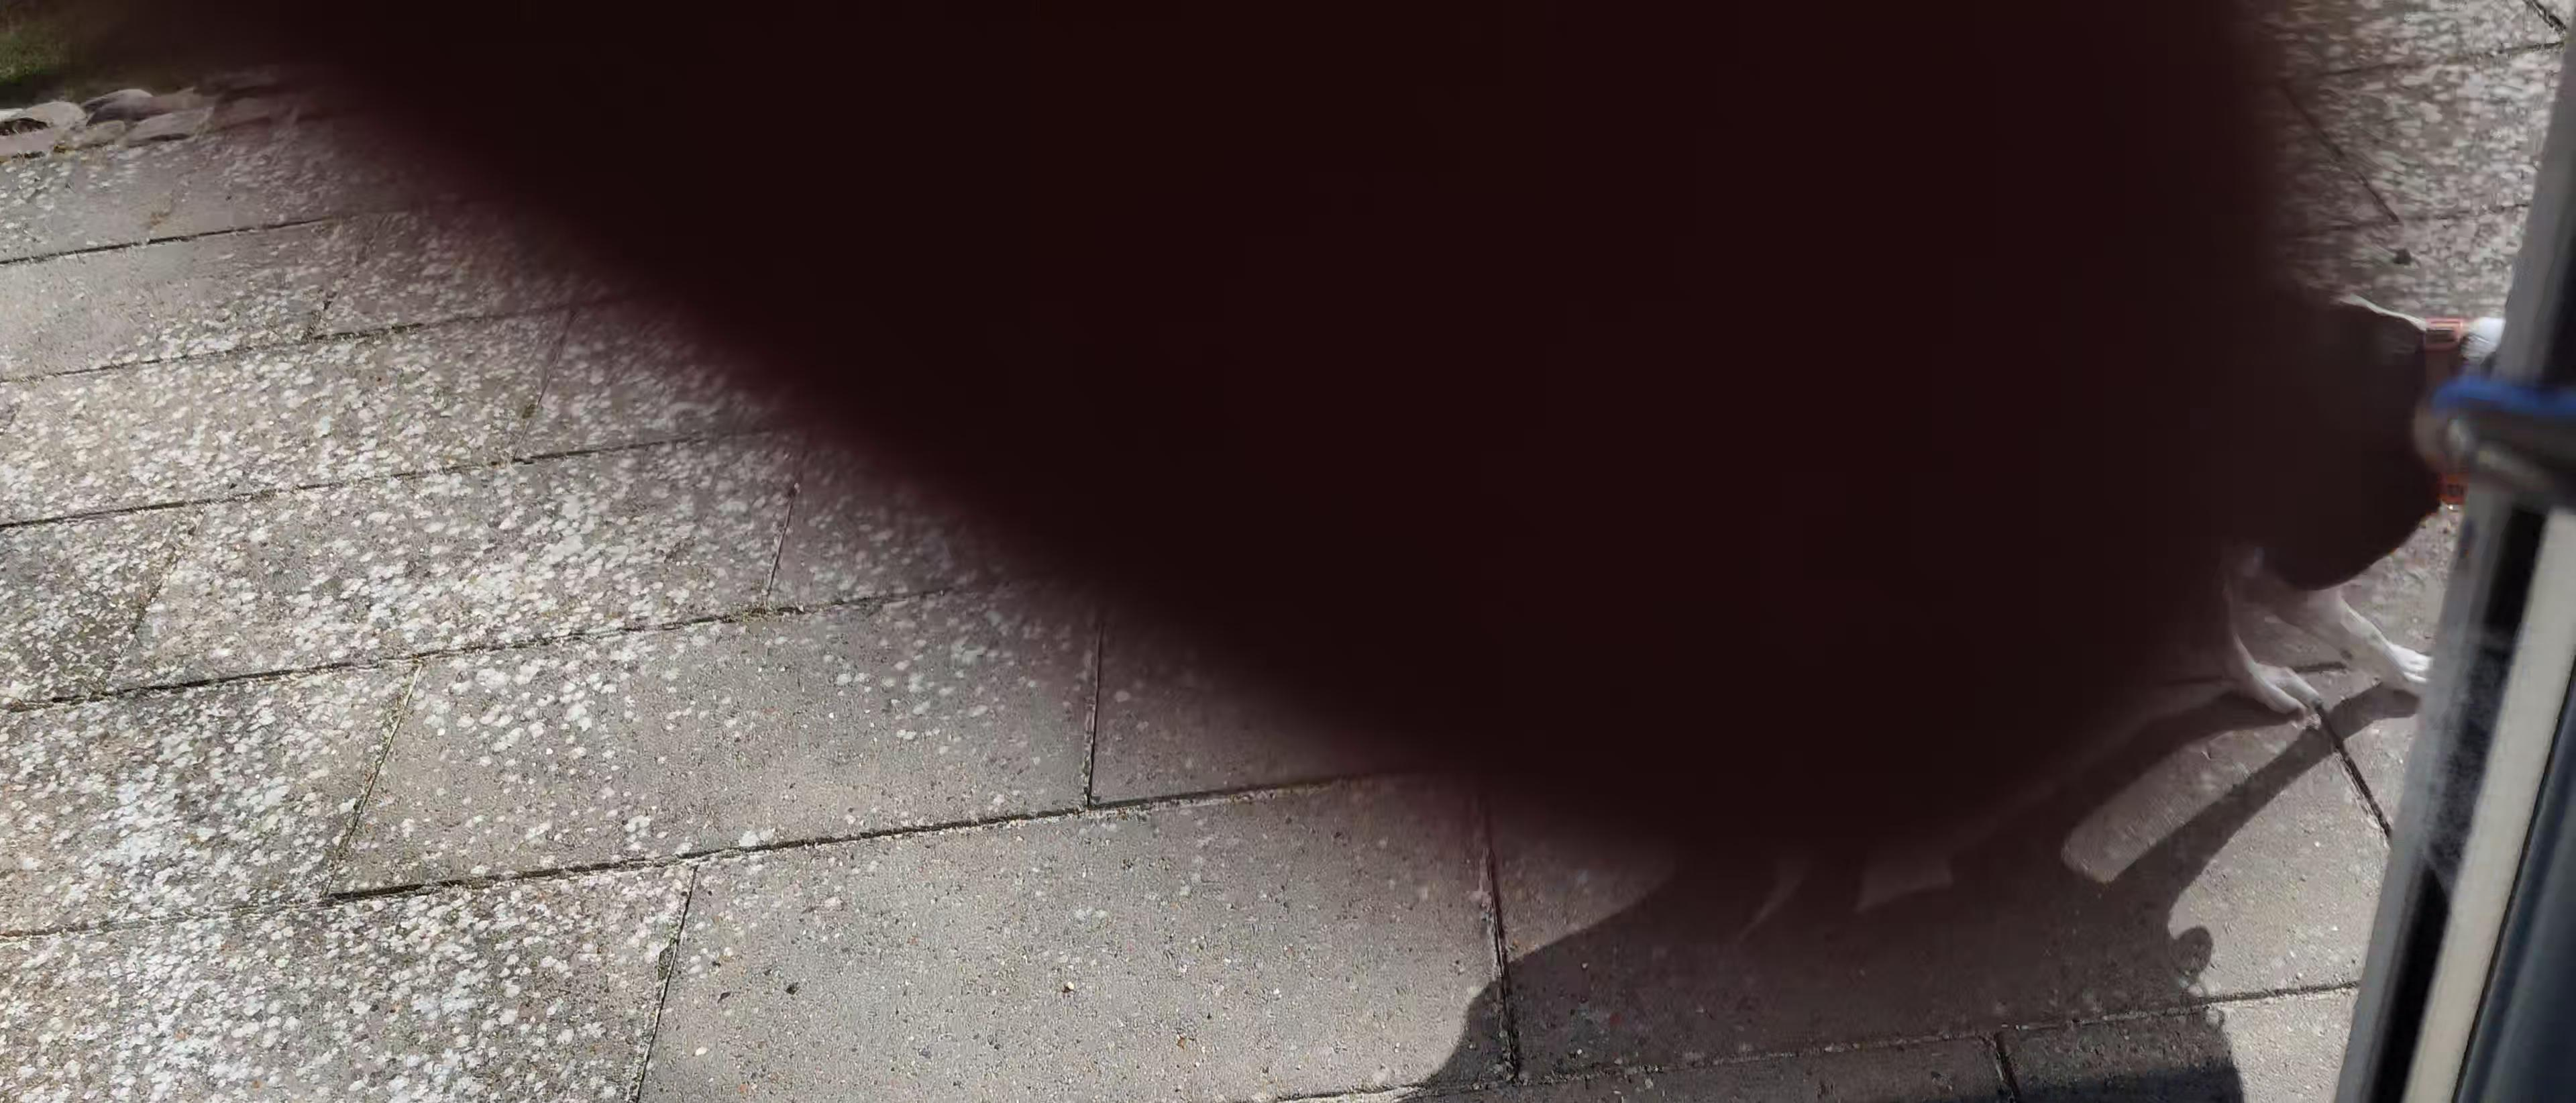Dog: (2137, 255, 2527, 731)
